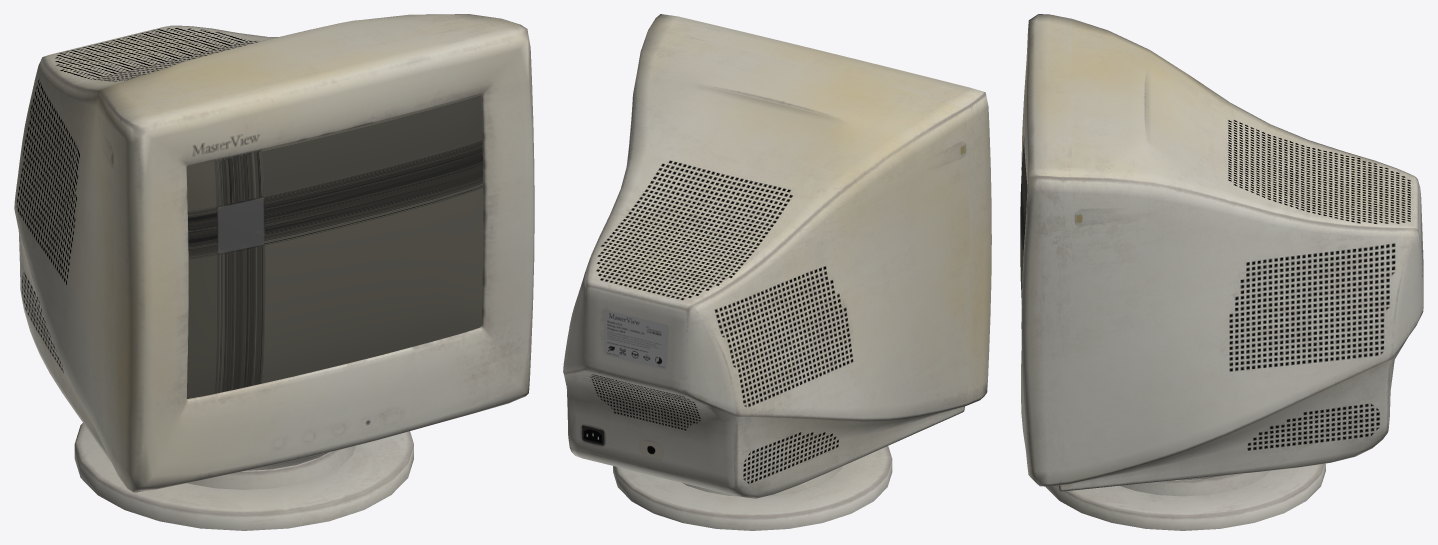
Rendered from computerFixed.glb.
3 renders of one model, left to right at view 1: azimuth 30°, elevation 25°; view 2: azimuth 150°, elevation 25°; view 3: azimuth 270°, elevation 25°, orthographic. The views are drawn at different scales.
Parts seen in each view (by area): view 1: CRT_Monitor; view 2: CRT_Monitor; view 3: CRT_Monitor.
Part boxes in pixels (x1,y1,x2,y2): CRT_Monitor: (14,14,534,530); CRT_Monitor: (563,14,991,530); CRT_Monitor: (1020,14,1423,530).
Size of the model in its own units: 1.57 by 1.67 by 1.62.
2 materials, 2 textured.
